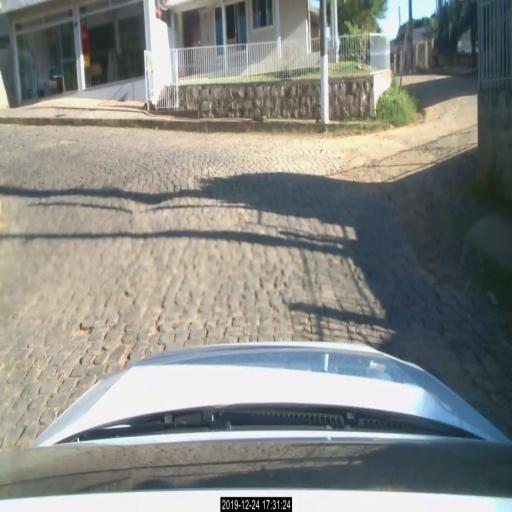Pothole: (329, 128, 403, 214)
